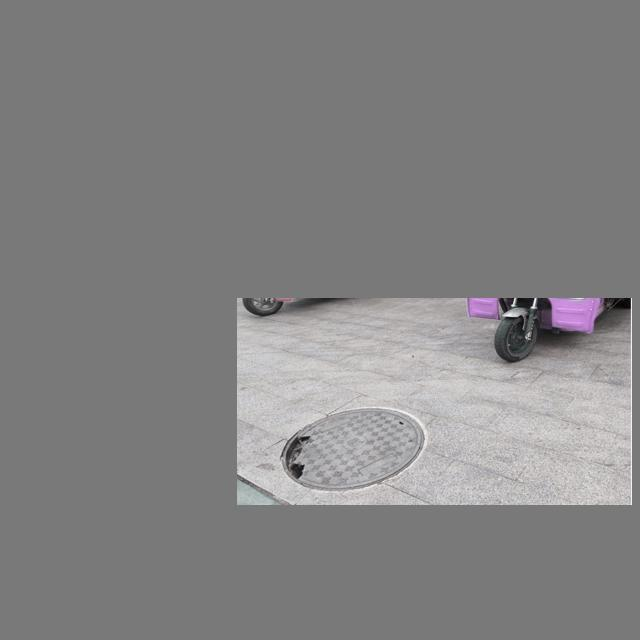broke: (279, 408, 422, 487)
